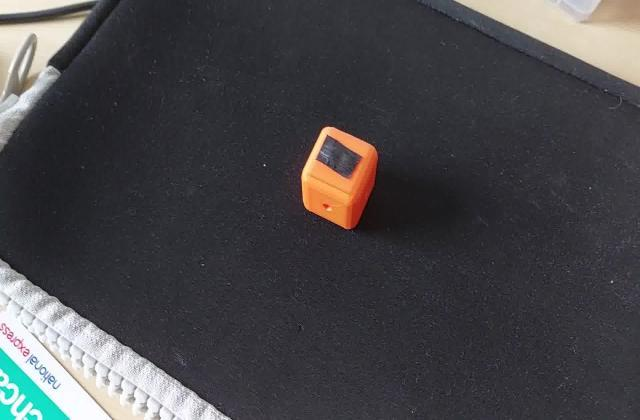black: (314, 141, 368, 183)
sticker: (300, 124, 382, 235)
